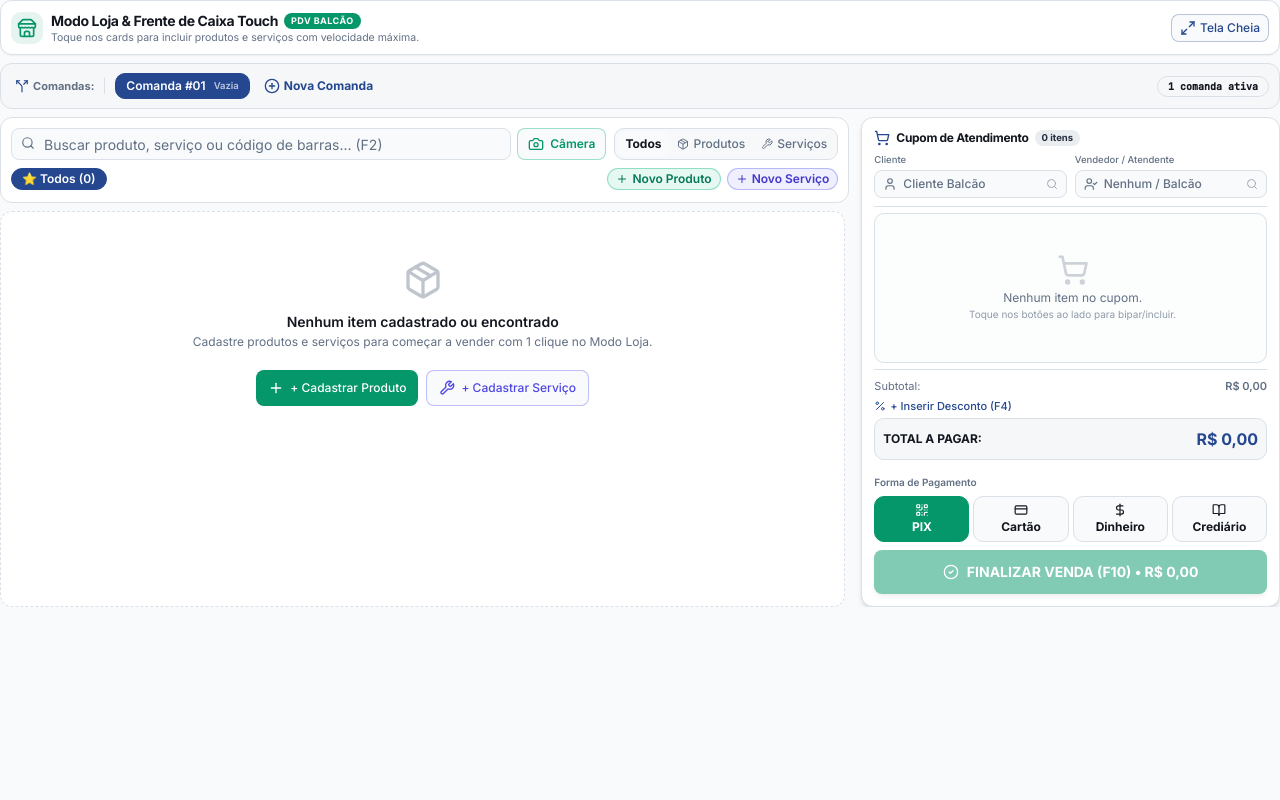
Test case: StorePos Component (Modo Loja / Frente de Caixa Touch) › deve abrir o modal de seleção de atendentes ao clicar no seletor de vendedor
This screenshot has width=1280, height=800.
Note: Clica no seletor de atendente
Click the button "Nenhum / Balcão".
click(1171, 184)  # box top-left (1075, 170), bottom-right (1267, 198)
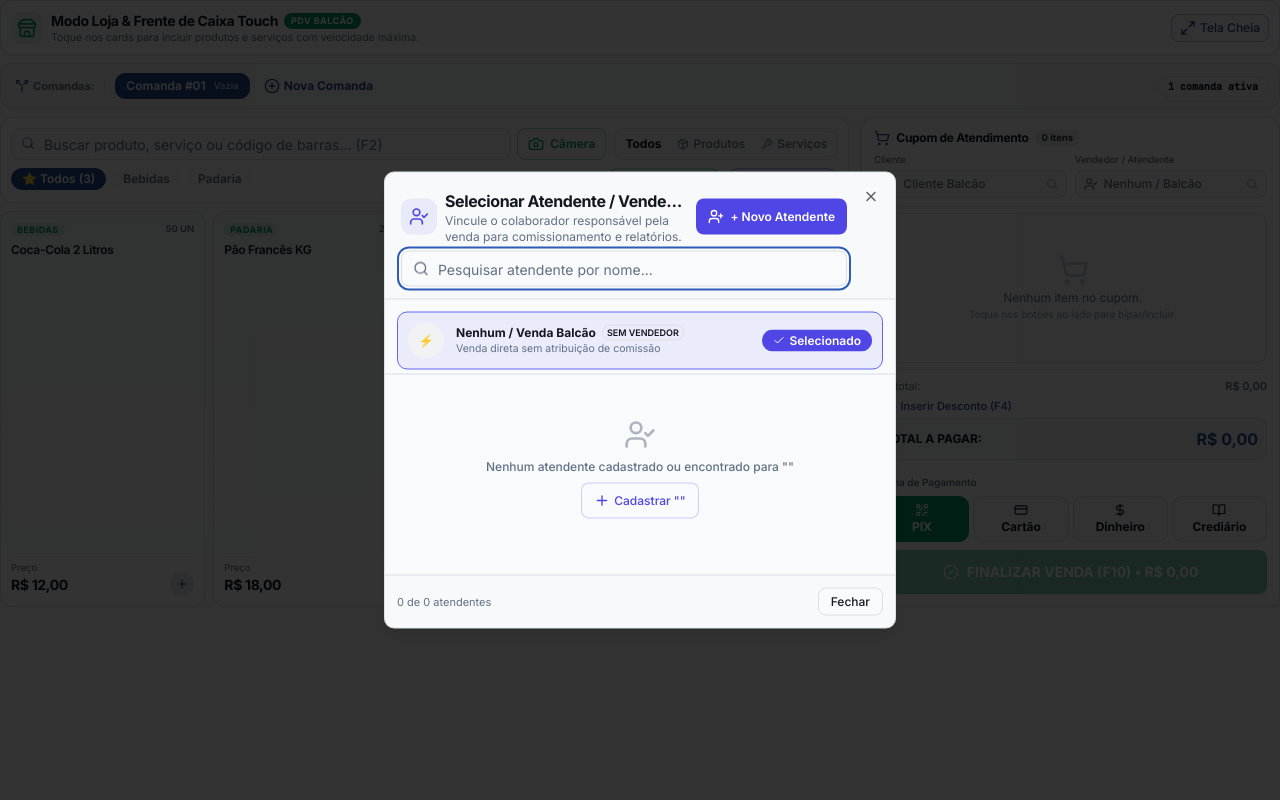
Check: the heading "Selecionar Atendente / Vendedor" is shown, box top-left (445, 188), bottom-right (684, 212)
Check: the field with placeholder "Pesquisar atendente por nome..." is shown, box top-left (401, 250), bottom-right (847, 286)
Check: the button "+ Novo Atendente" is shown, box top-left (696, 198), bottom-right (847, 234)
